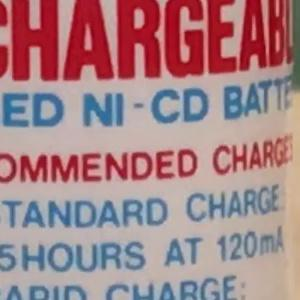keyword: (73, 78, 218, 136)
